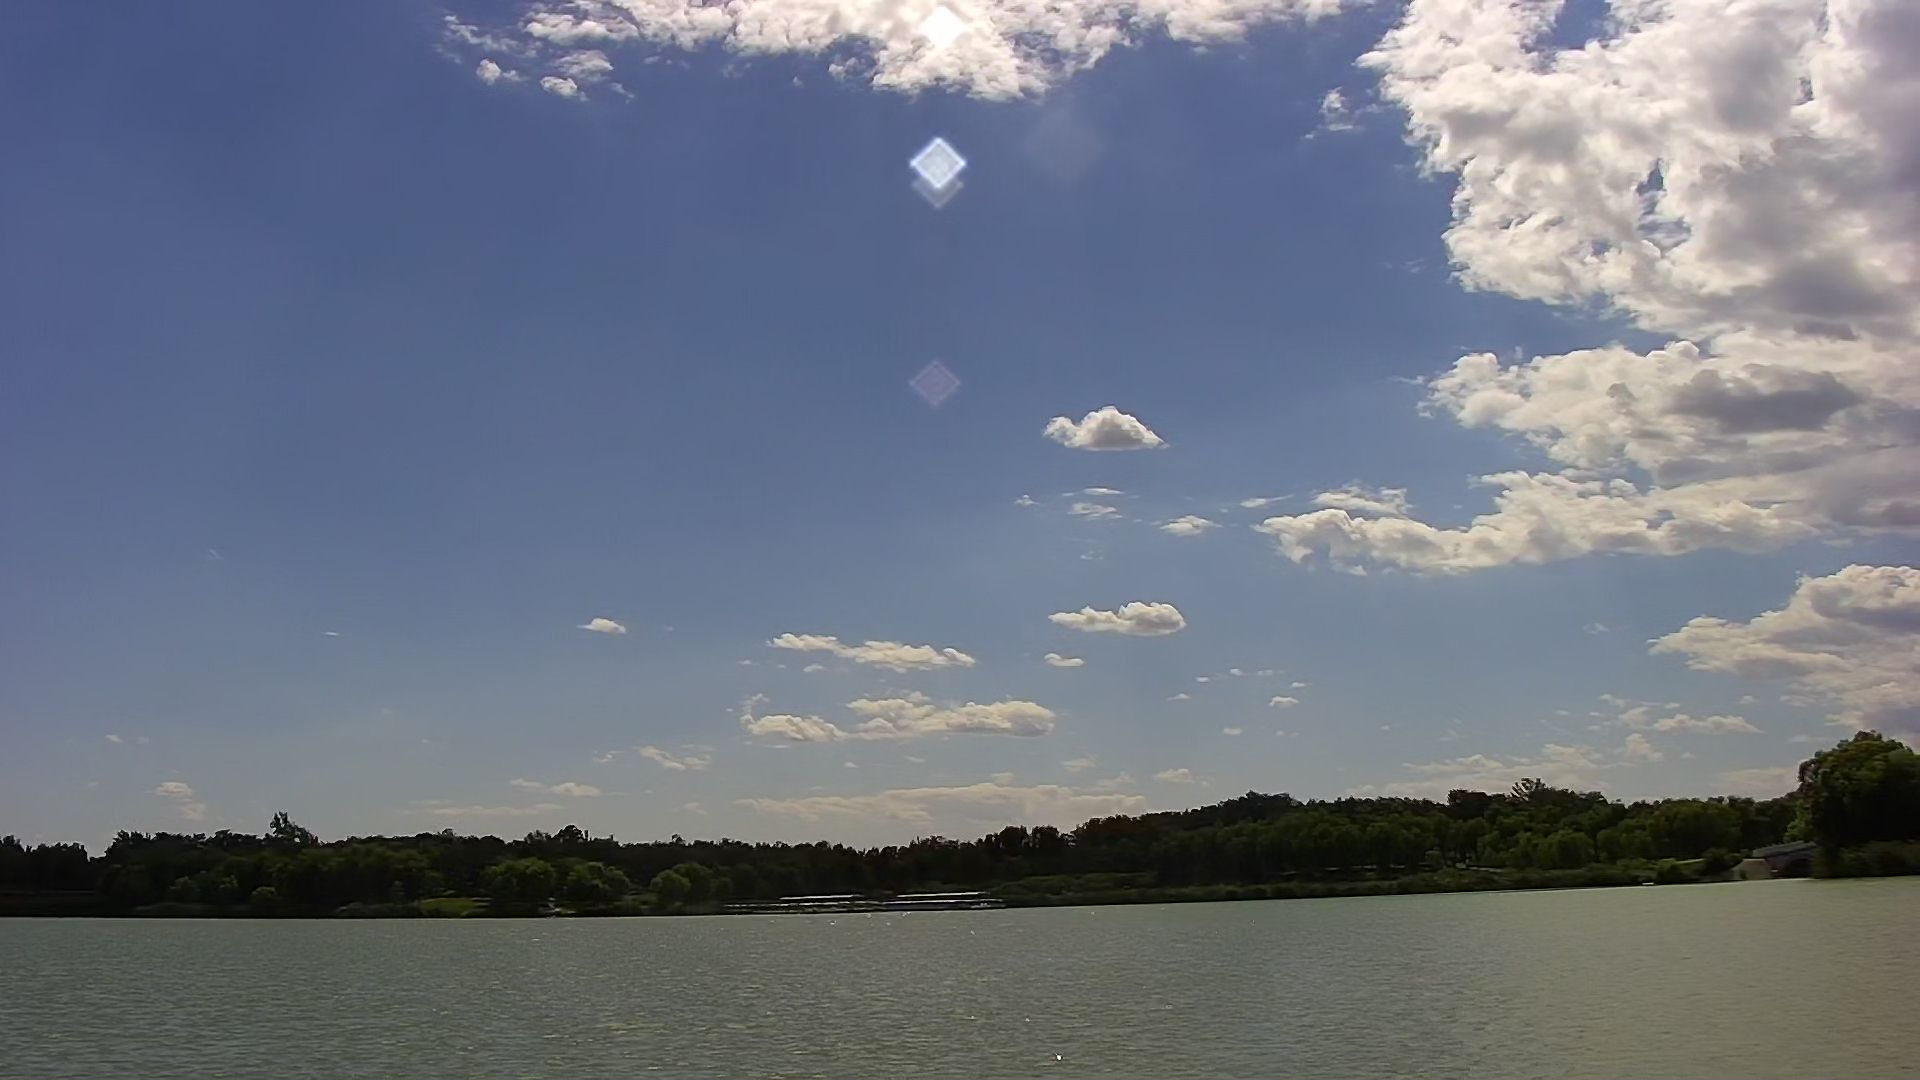harbor: (771, 895, 978, 911)
